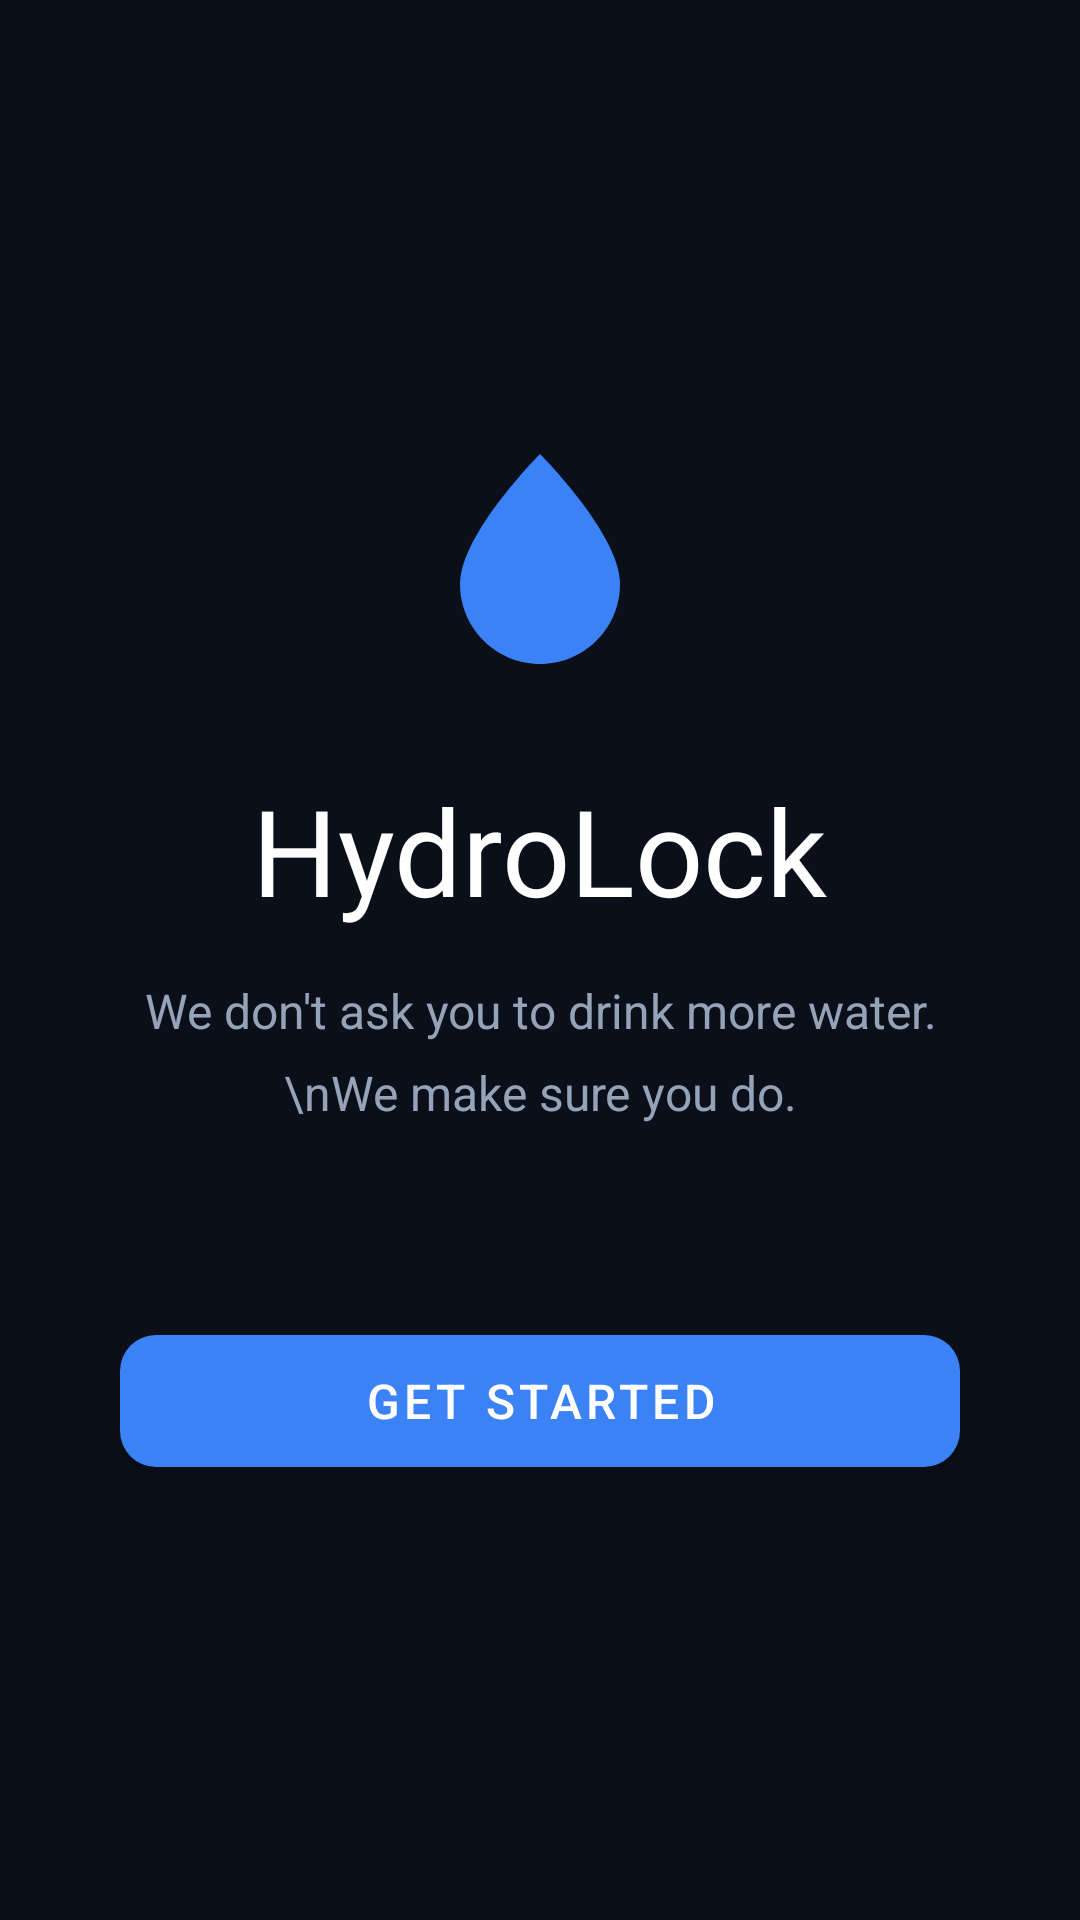

Icons on this 1080px×1920px Android screen, each with its box as (x1, y1, x2, y2):
water drop: (460, 454, 620, 664)
